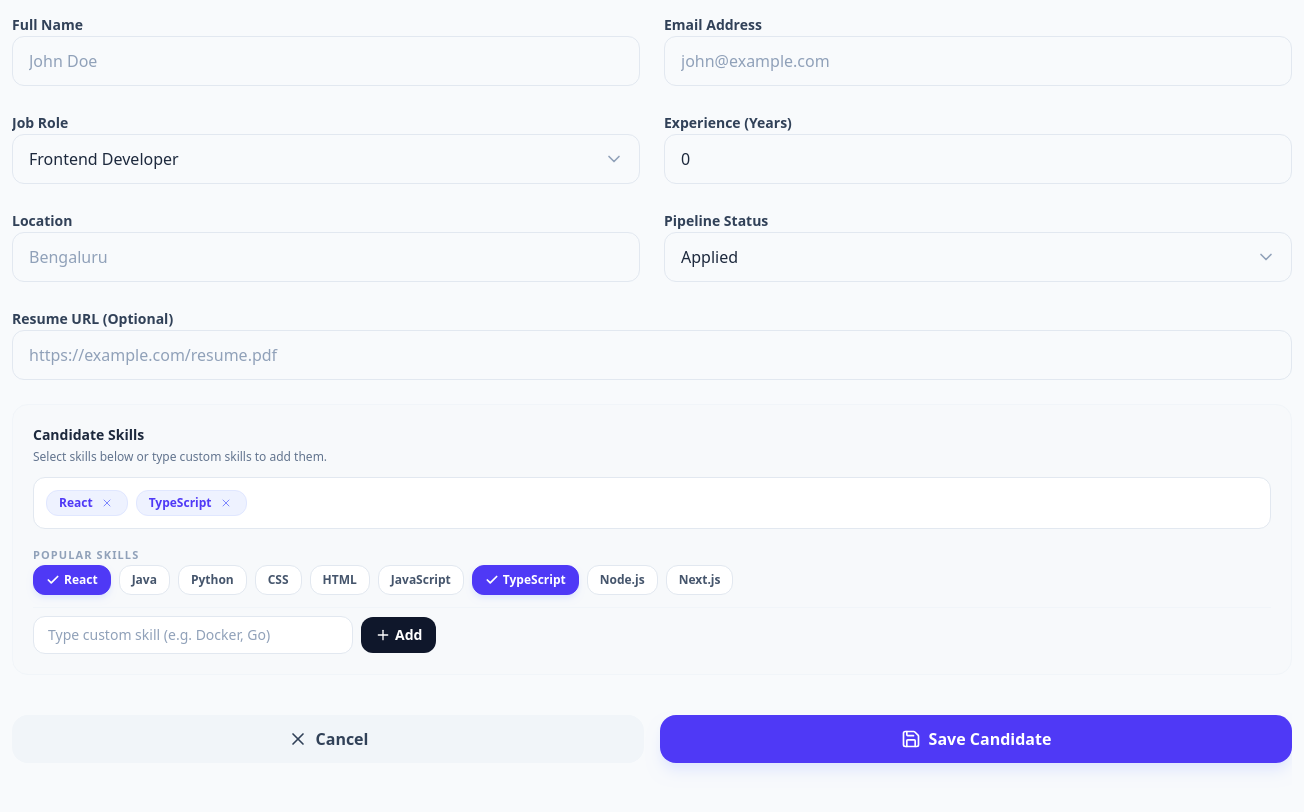
Scenario: CandidateForm Component › allows user to type and add custom skills
Type a new skill "Docker" and click add
In the field with placeholder "Type custom skill (e.g. Docker, Go)": (193, 635) 33,616 -> 353,654, type "Docker"
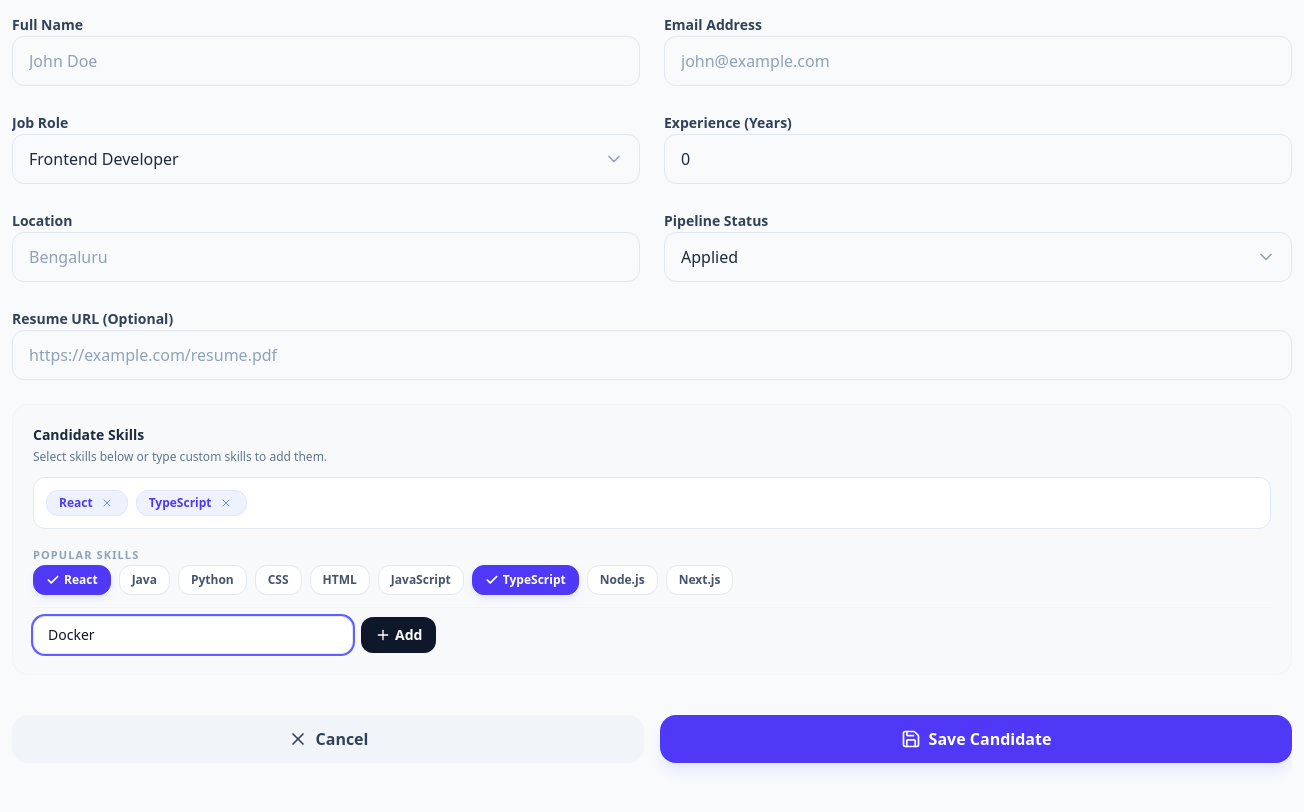
Click the button "Add": click(399, 635) 361,617 -> 436,653
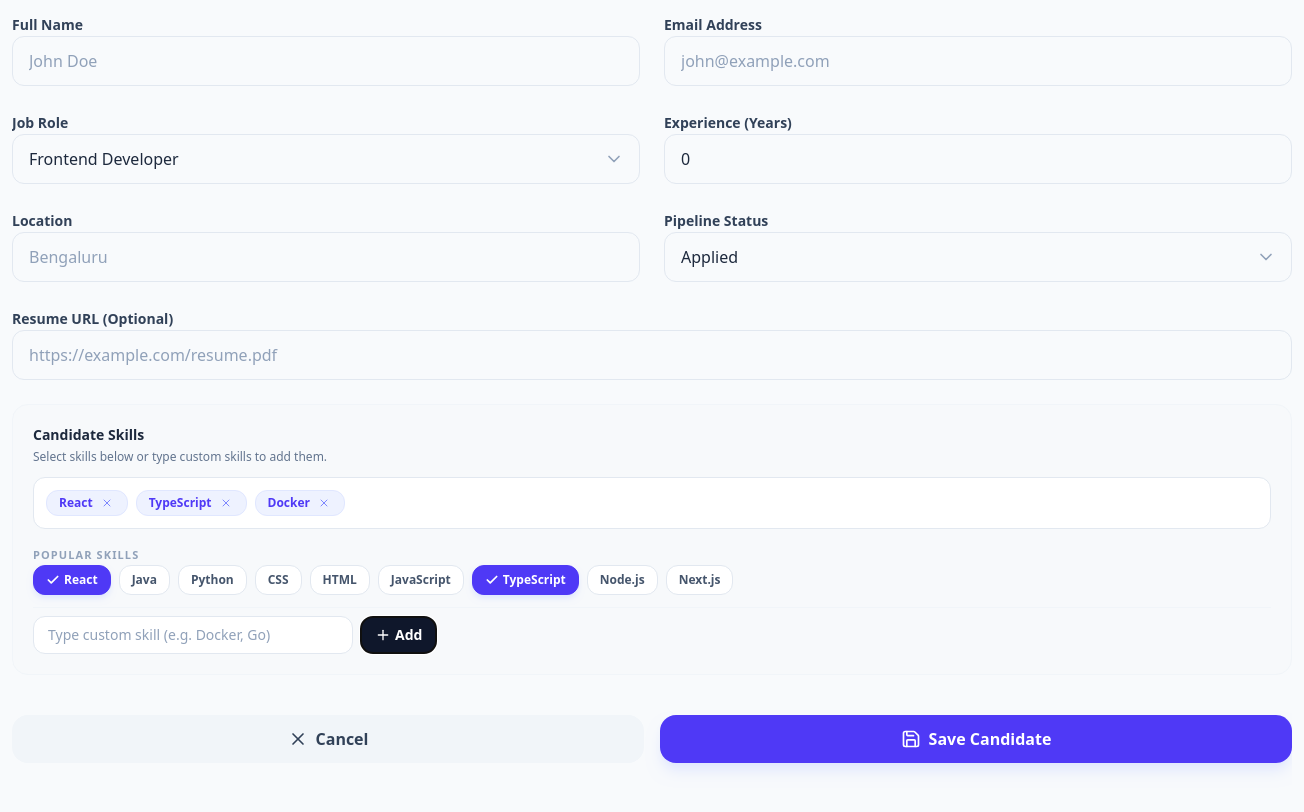
Now the text "Docker" is shown, box 255,490 -> 345,516
